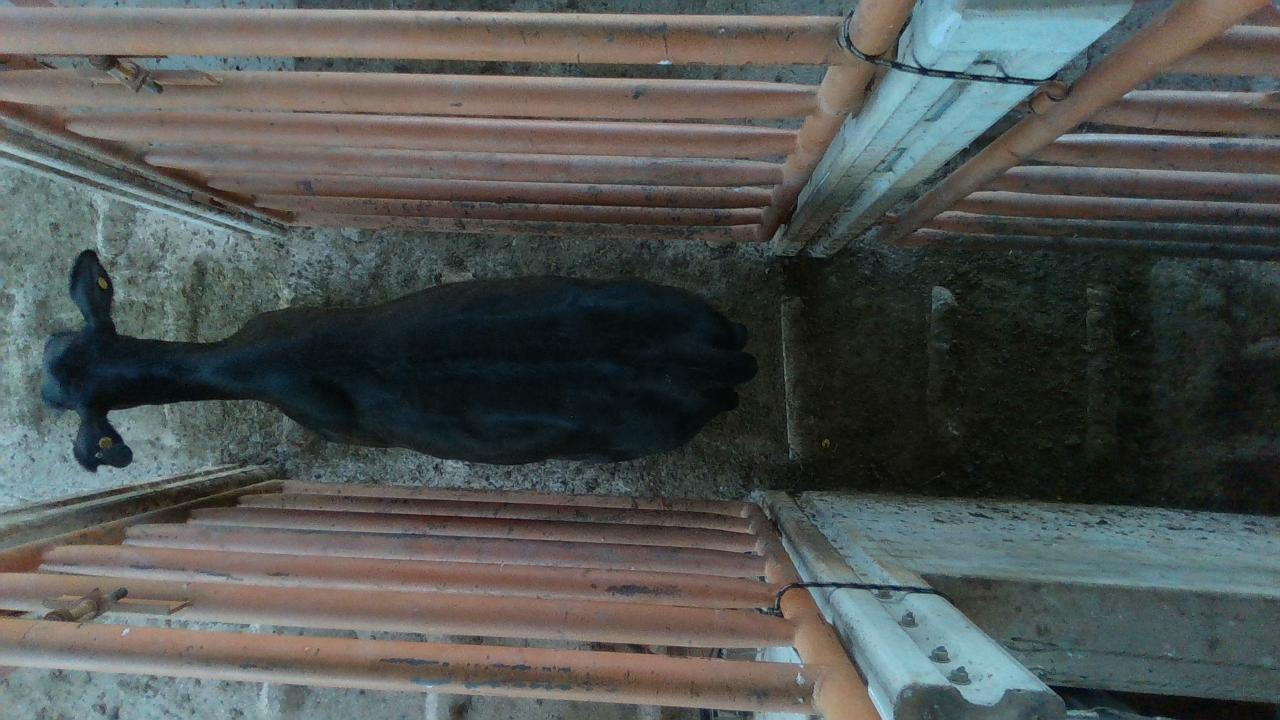cattle: (39, 247, 759, 471)
